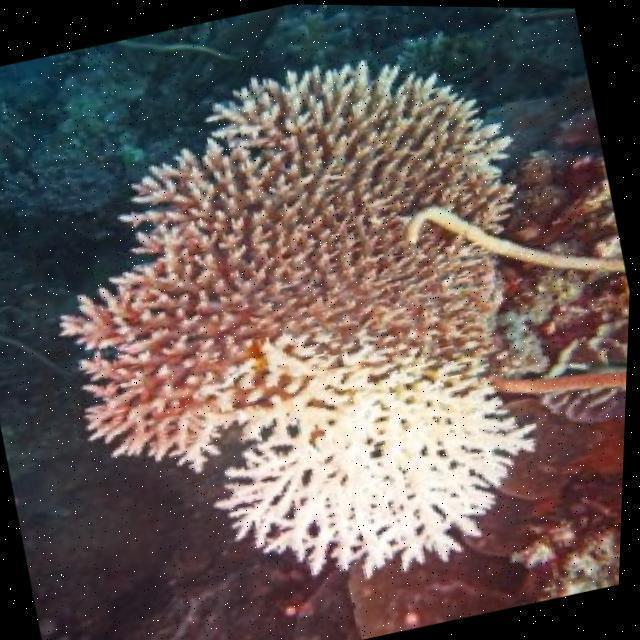Bleached Coral: (219, 344, 538, 584)
Healthy Coral: (102, 53, 529, 330)
